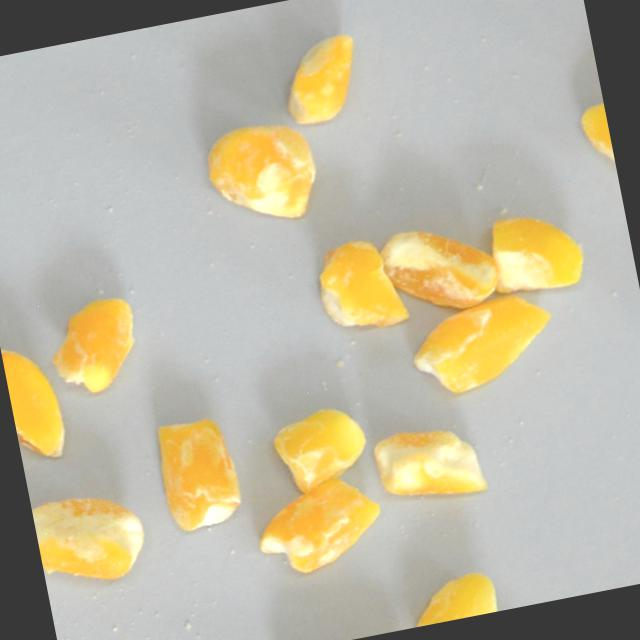estandar: (276, 30, 367, 127)
no_canjicado: (481, 201, 589, 298)
pelicula: (404, 288, 563, 402), (248, 471, 390, 579), (199, 115, 324, 231), (377, 215, 506, 322), (30, 484, 153, 592), (151, 411, 247, 534), (43, 293, 148, 399), (267, 399, 375, 496), (311, 232, 411, 336), (372, 418, 487, 508), (0, 337, 70, 466), (404, 565, 502, 628), (577, 99, 622, 202)
